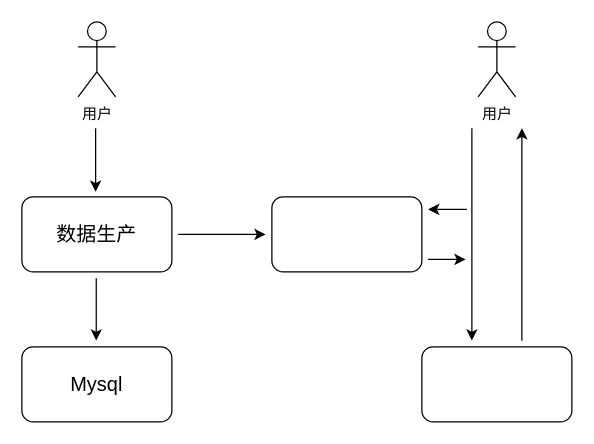
Image size: 594x444. Some labels were removed from this diagram. The centre of each missing label's shape, as x and y in pixels:
"ElasticSearch" goes at point 496,384.
"缓存" goes at point 346,234.
